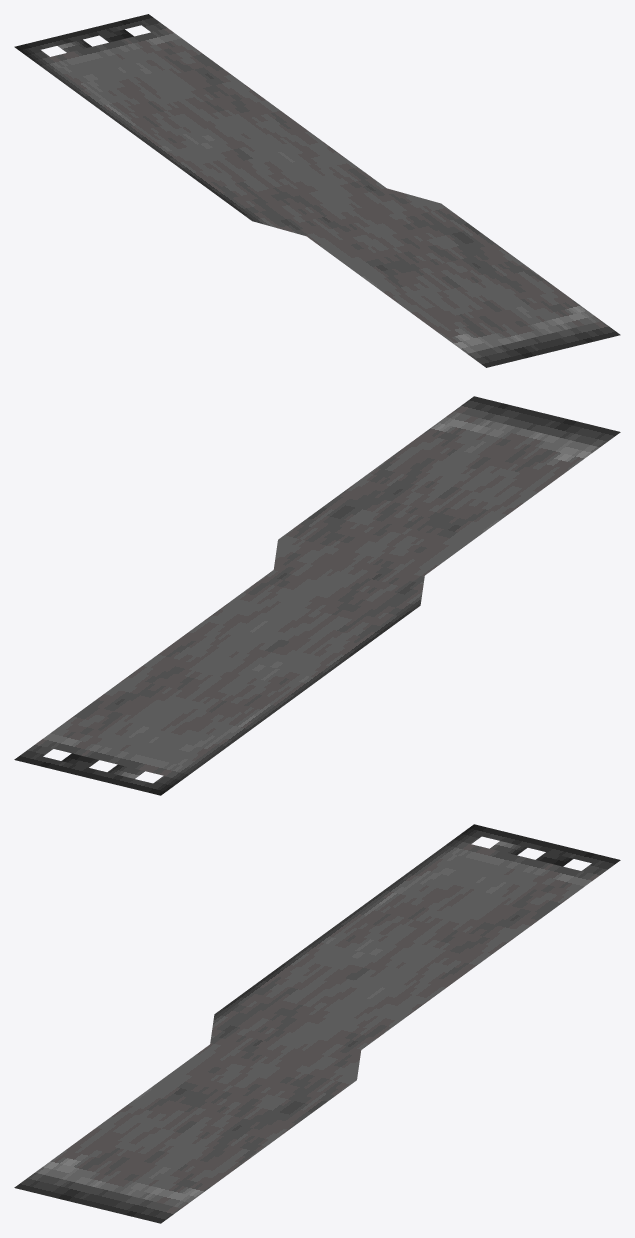
File: F_DECK_3.obj
3 renders of one model, top to bottom at view 1: azimuth 30°, elevation 25°; view 2: azimuth 150°, elevation 25°; view 3: azimuth 330°, elevation 25°, orthographic. The views are drawn at different scales.
Parts seen in each view (by area): view 1: F_DECK_3; view 2: F_DECK_3; view 3: F_DECK_3.
Boxes of the visible parts, x1,y1,x2,y2 form: F_DECK_3: (14, 14, 620, 367); F_DECK_3: (14, 396, 620, 795); F_DECK_3: (14, 824, 620, 1223).
Bounding box in the file's own units: 304 × 0 × 1472.
